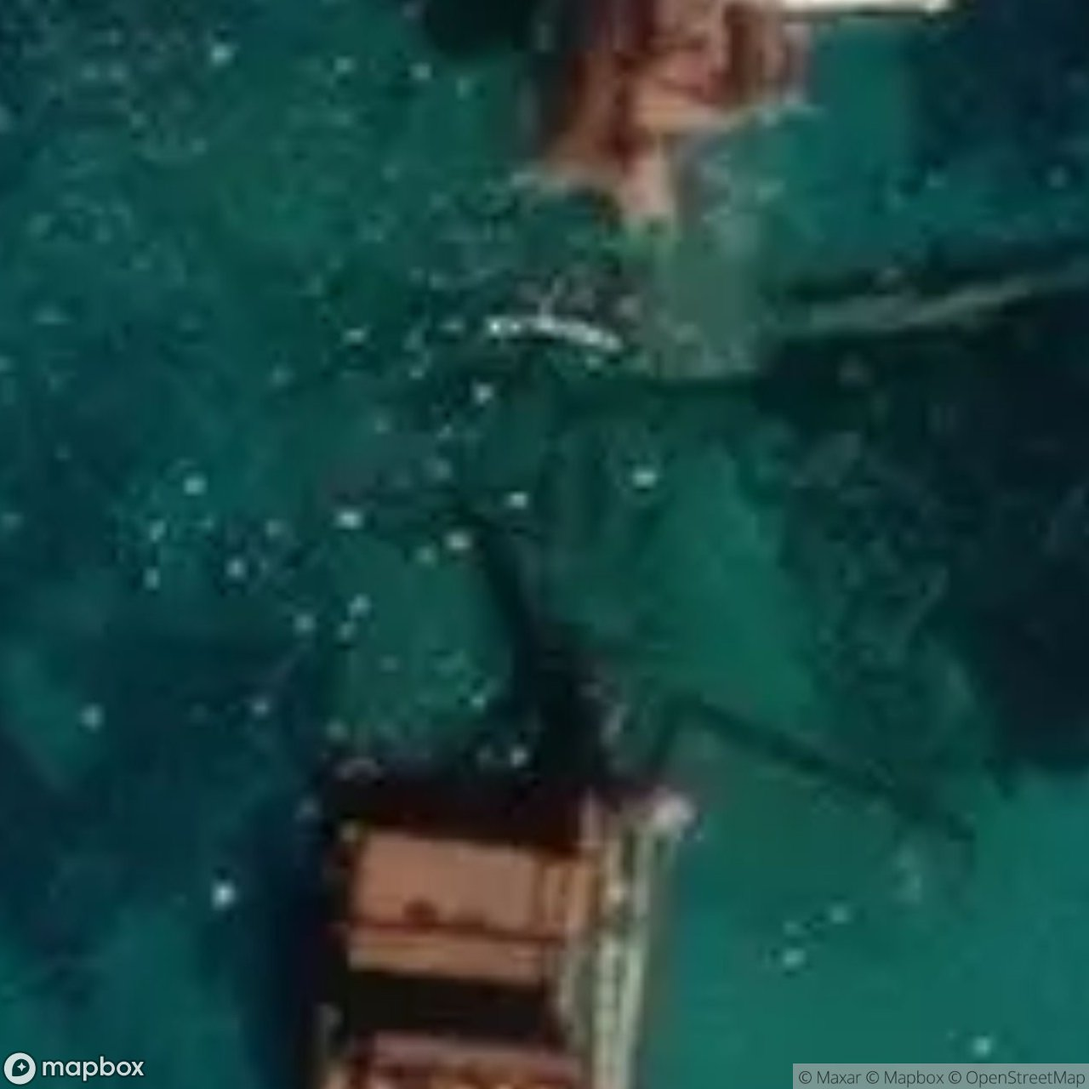Wreck: (247, 5, 815, 1089)
